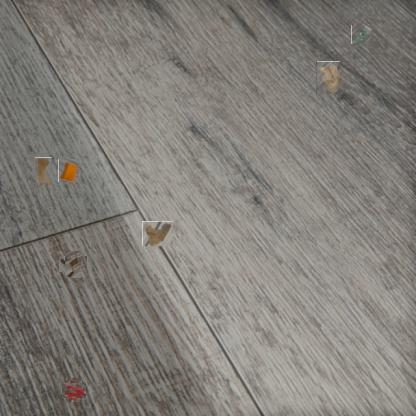dirty: (316, 61, 340, 94), (142, 221, 173, 246), (57, 159, 80, 182), (62, 253, 84, 275), (352, 24, 372, 45)
liquid: (34, 157, 52, 186), (64, 380, 84, 401)
